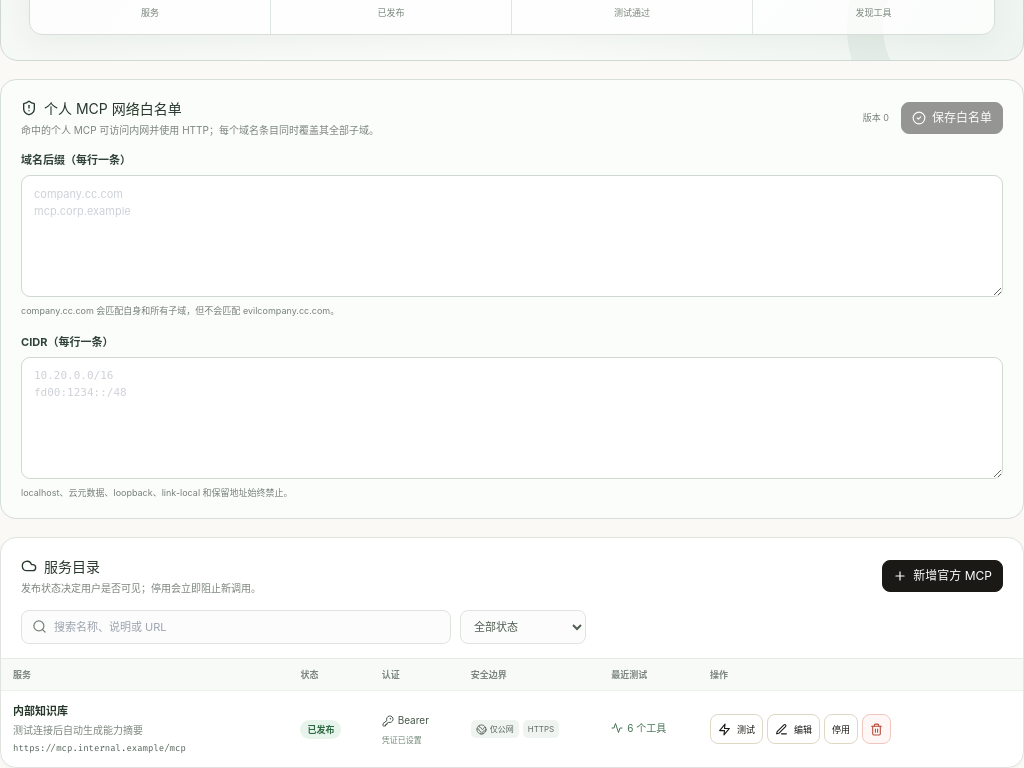
AdminMcpCatalogPanel › 说明由测试结果自动生成：表单不提供输入，空说明显示生成提示
(page scrolled)
Expected: the text "内部知识库" is shown, top-left (13, 704), bottom-right (68, 718)
Expected: the text "测试连接后自动生成能力摘要" is shown, top-left (13, 724), bottom-right (143, 736)
Click the button "新增官方 MCP" at coordinates (943, 576), box top-left (882, 560), bottom-right (1003, 592)
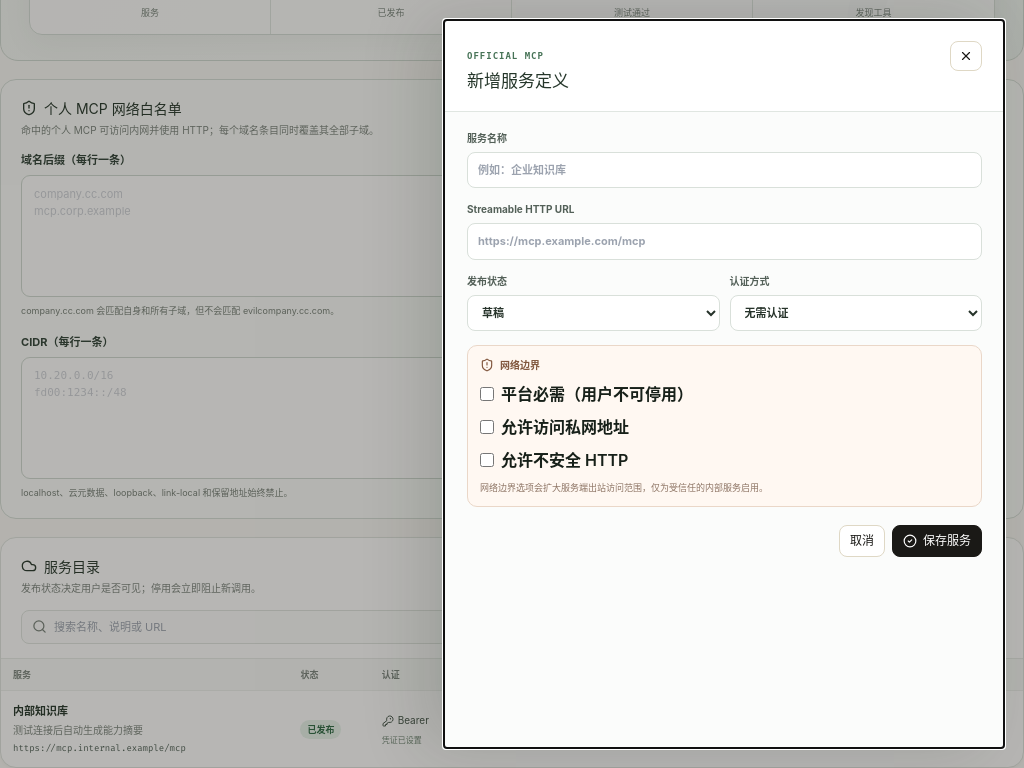
Result: the field labelled "服务名称" is shown at top-left (467, 152), bottom-right (982, 188)
